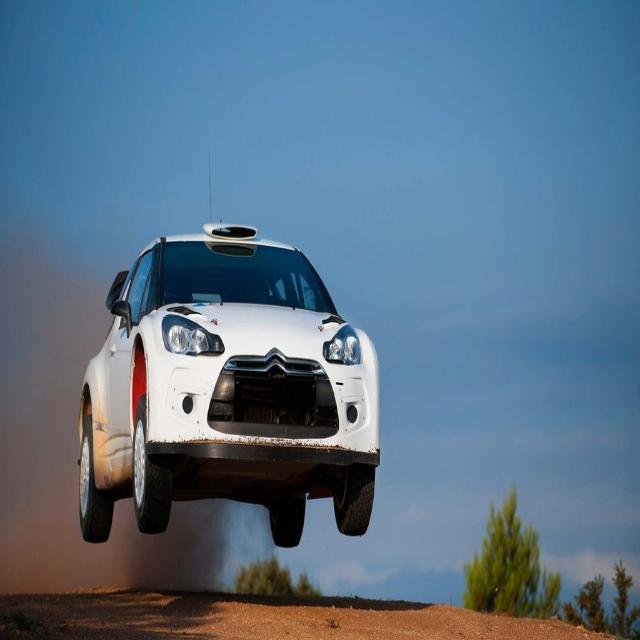car: (76, 153, 380, 547)
